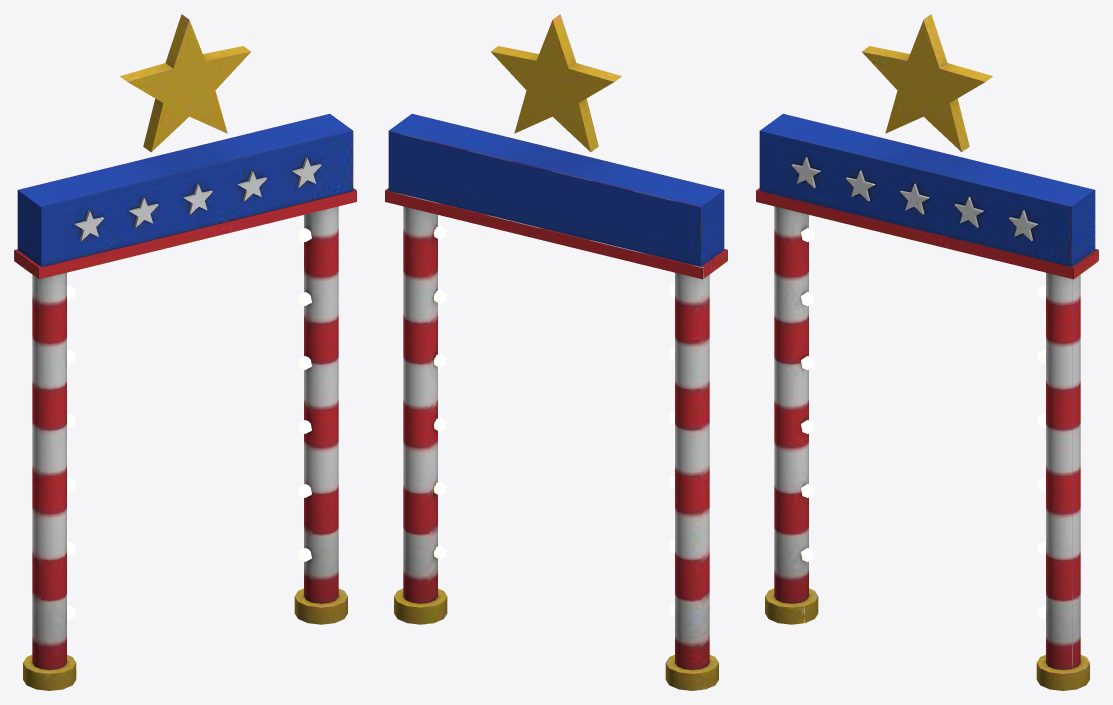
File: arco_premio.glb
The picture shows the model from 3 angles, left to right: view 1: azimuth 30°, elevation 25°; view 2: azimuth 150°, elevation 25°; view 3: azimuth 330°, elevation 25°; orthographic projection.
Parts seen in each view (by area): view 1: arco_premio; view 2: arco_premio; view 3: arco_premio.
Part boxes in pixels (x1,y1,x2,y2): arco_premio: (14,14,356,690); arco_premio: (385,14,727,690); arco_premio: (756,14,1098,690).
Bounding box in the file's own units: 2.34 × 4.43 × 0.34.
Materials: 1 (1 with a texture image).
